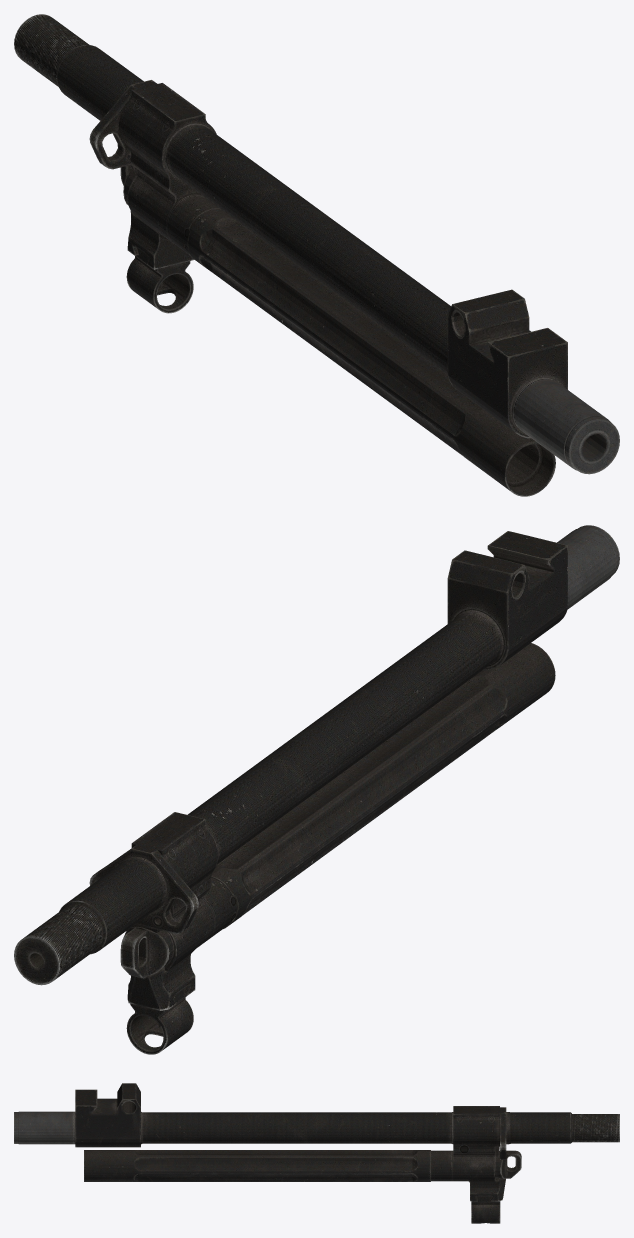
3 renders of one model, top to bottom at view 1: azimuth 30°, elevation 25°; view 2: azimuth 150°, elevation 25°; view 3: azimuth 270°, elevation 25°, orthographic. The views are drawn at different scales.
Visible parts, largest first — view 1: TW_5beec1bd0db834001e6006f3_PZ_Import; view 2: TW_5beec1bd0db834001e6006f3_PZ_Import; view 3: TW_5beec1bd0db834001e6006f3_PZ_Import.
Part boxes in pixels (x1,y1,x2,y2): TW_5beec1bd0db834001e6006f3_PZ_Import: [14, 14, 619, 496]; TW_5beec1bd0db834001e6006f3_PZ_Import: [14, 525, 619, 1054]; TW_5beec1bd0db834001e6006f3_PZ_Import: [14, 1083, 619, 1223].
Bounding box in the file's own units: 0.023 × 0.2147 × 0.0513.
1 material, 1 textured.
